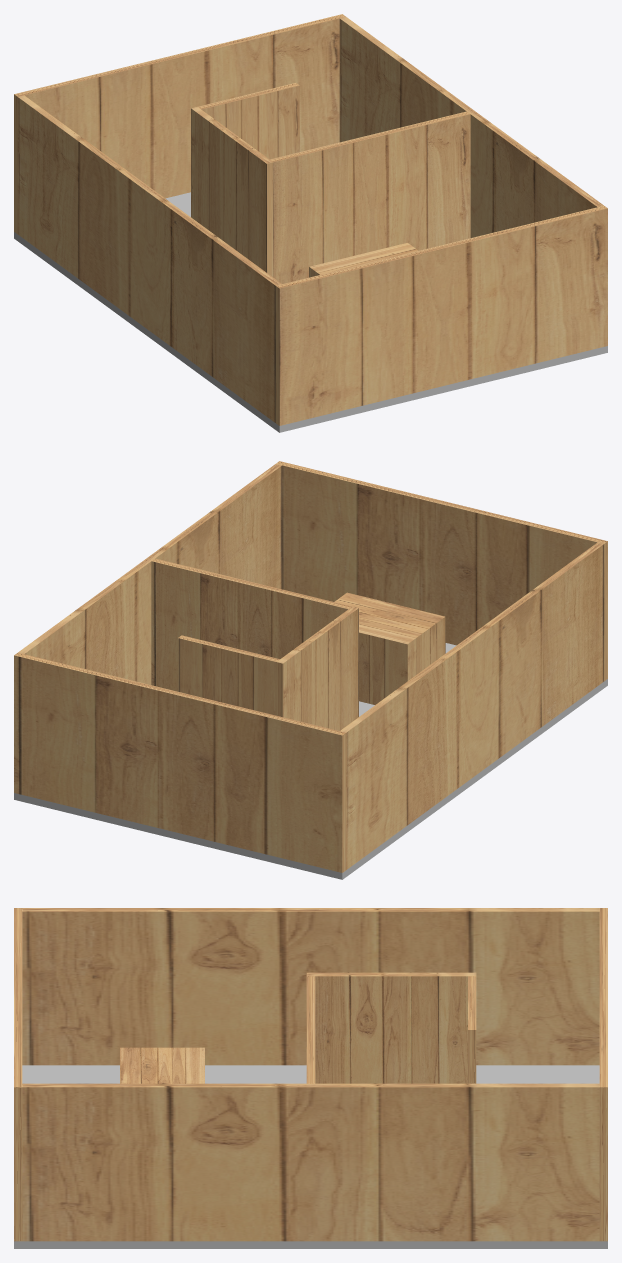
File: nav_room.dae
The picture shows the model from 3 angles, top to bottom: view 1: azimuth 30°, elevation 25°; view 2: azimuth 150°, elevation 25°; view 3: azimuth 270°, elevation 25°; orthographic projection. The views are drawn at different scales.
Visible parts, largest first — view 1: Cube.005, Cube.007, Cube.006, Cube.001, Cube.008, Cube.002, Cube, Cube.003, Cube.004; view 2: Cube.006, Cube.007, Cube.005, Cube.008, Cube.001, Cube.002, Cube.004, Cube.003, Cube; view 3: Cube.008, Cube.007, Cube.002, Cube, Cube.004, Cube.006, Cube.005, Cube.001, Cube.003.
Boxes of the visible parts, box(x1,y1,x2,y2) form: Cube.005: box(275, 205, 607, 425); Cube.007: box(17, 95, 281, 422); Cube.006: box(14, 14, 345, 233); Cube.001: box(270, 111, 470, 283); Cube.008: box(339, 17, 603, 237); Cube.002: box(191, 107, 273, 277); Cube: box(14, 192, 607, 432); Cube.003: box(198, 83, 299, 159); Cube.004: box(309, 243, 418, 277); Cube.006: box(14, 652, 346, 872); Cube.007: box(340, 542, 604, 869); Cube.005: box(276, 461, 607, 680); Cube.008: box(18, 464, 282, 684); Cube.001: box(151, 558, 351, 691); Cube.002: box(276, 606, 358, 730); Cube.004: box(334, 592, 445, 704); Cube.003: box(178, 635, 279, 715); Cube: box(14, 643, 607, 879); Cube.008: box(22, 1083, 599, 1241); Cube.007: box(22, 908, 599, 1065); Cube.002: box(306, 972, 476, 1083); Cube: box(14, 1065, 607, 1248); Cube.004: box(120, 1047, 204, 1083); Cube.006: box(599, 908, 607, 1241); Cube.005: box(14, 908, 22, 1241); Cube.001: box(306, 976, 315, 1083); Cube.003: box(468, 976, 476, 1083).
Bounding box in the file's own units: 5 × 7 × 2.1.
